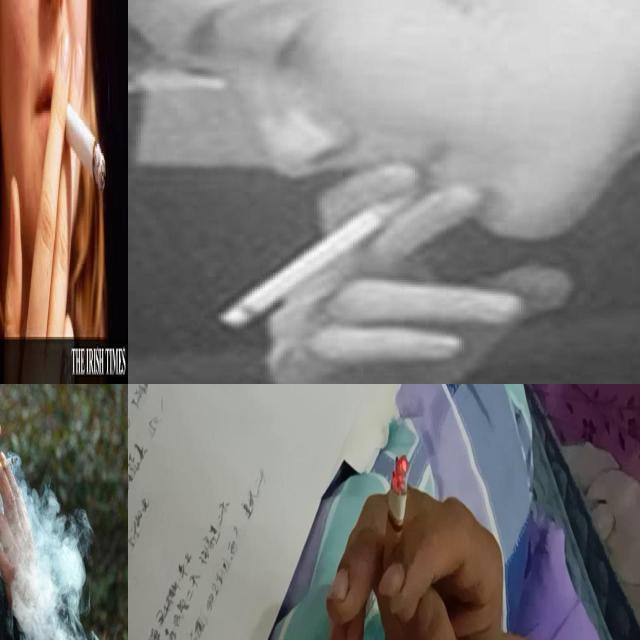smoking: (217, 182, 429, 330), (62, 94, 106, 195), (379, 452, 412, 586), (0, 455, 18, 474)
